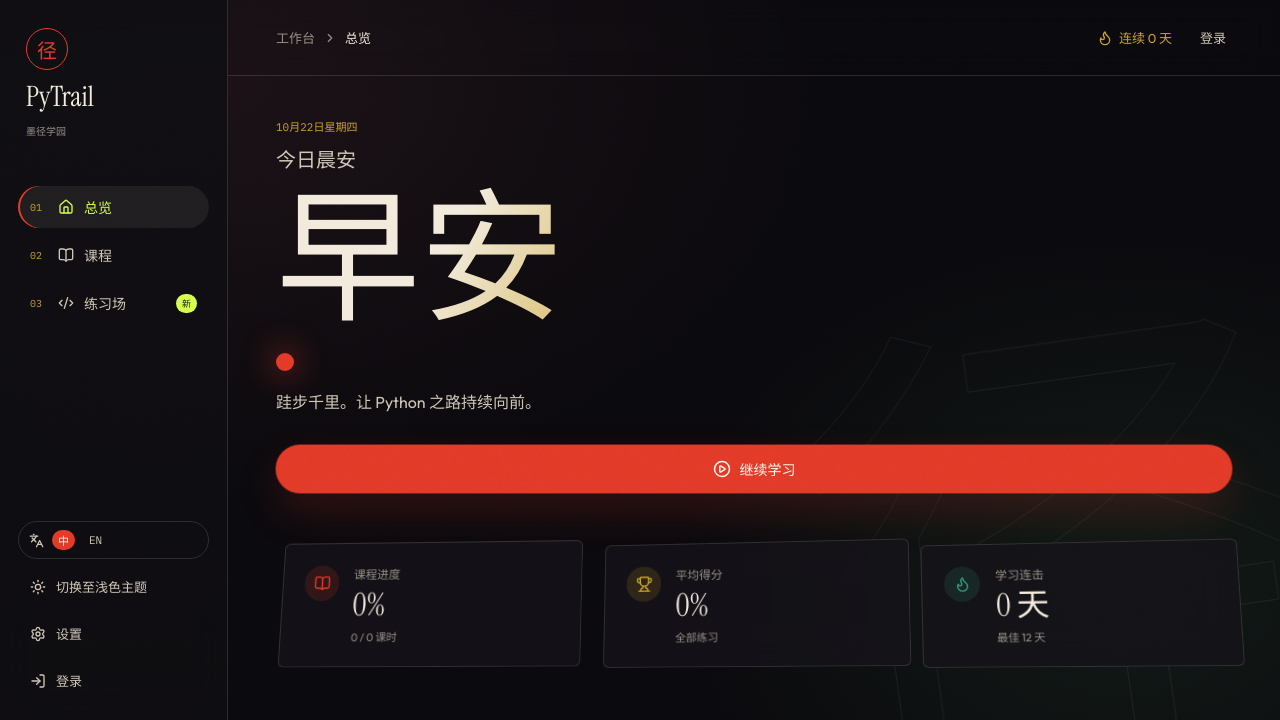
on-demand course and lesson workflow › opens the independent practice catalog without preloading a course detail
Step 1. Click the button with test id "nav-practice" → [114, 303], box [18,282,209,324]
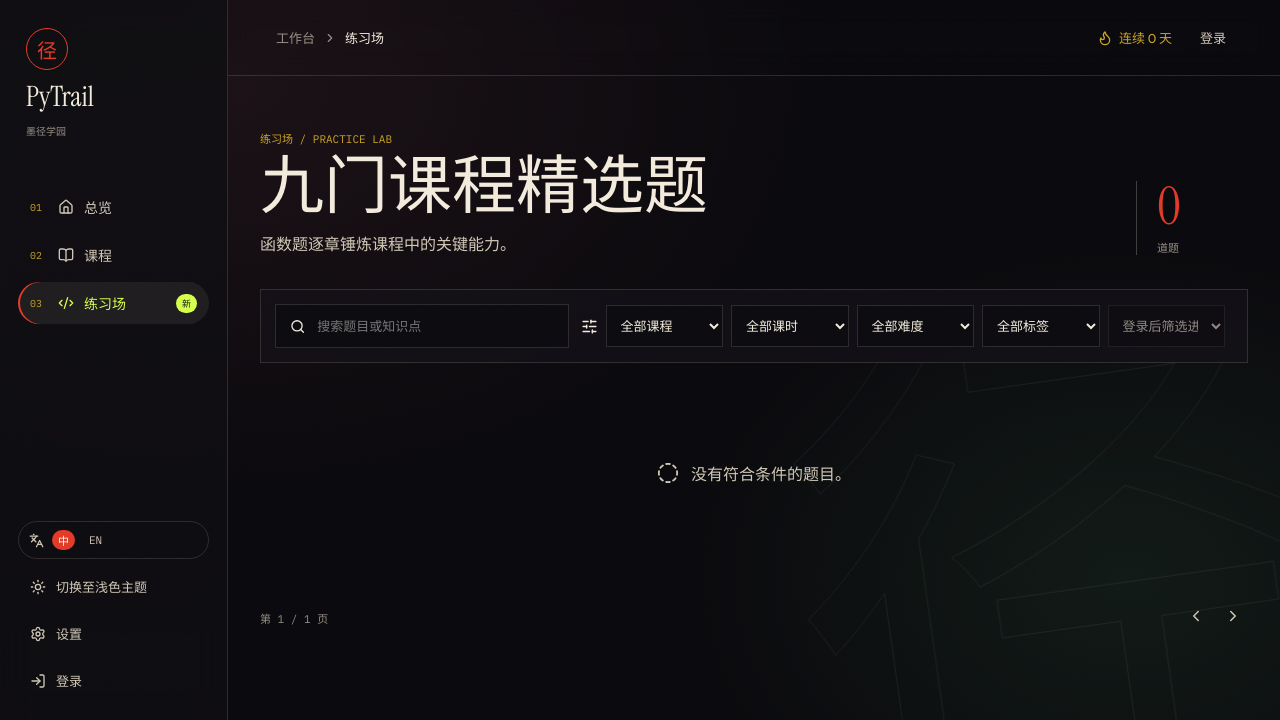
Expected: the heading "九门课程精选题" is shown, [260,154,708,219]
